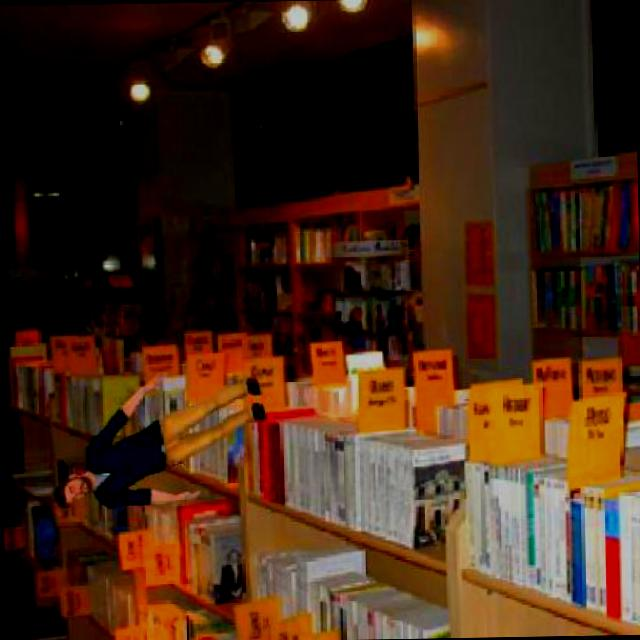Person: (48, 368, 270, 509)
